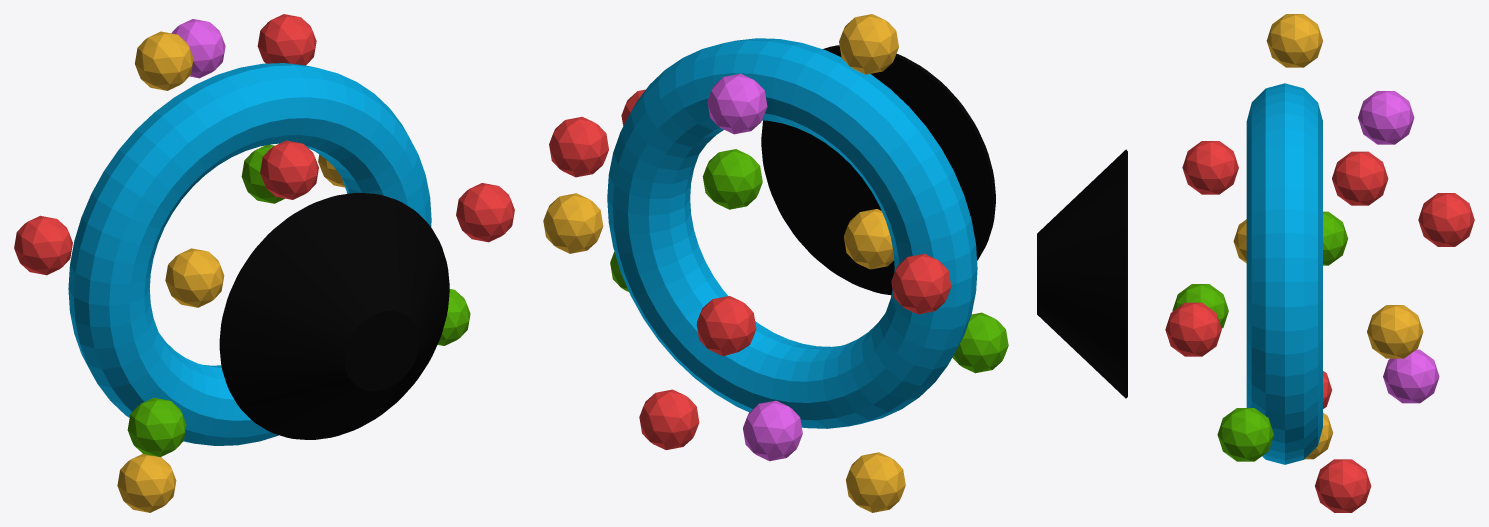
The model's file is AtomPainter.fbx.
3 views of the same model, side by side, from view 1: azimuth 30°, elevation 25°; view 2: azimuth 150°, elevation 25°; view 3: azimuth 270°, elevation 25° (orthographic). The views are drawn at different scales.
Visible parts, largest first — view 1: Torus, Cone, Icosphere.011, Icosphere.002, Icosphere.005, Icosphere.008, Icosphere, Icosphere.007, Icosphere.004, Icosphere.012, Icosphere.006, Icosphere.001 (+1 smaller); view 2: Torus, Cone, Icosphere.003, Icosphere.001, Icosphere.006, Icosphere.008, Icosphere.011, Icosphere.014, Icosphere.004, Icosphere.012, Icosphere.013, Icosphere.010 (+2 smaller); view 3: Torus, Cone, Icosphere.008, Icosphere.007, Icosphere.006, Icosphere.002, Icosphere.003, Icosphere.009, Icosphere.011, Icosphere.012, Icosphere.014, Icosphere.013 (+2 smaller).
Boxes of the visible parts, box(x1,y1,x2,y2) form: Torus: box(68, 63, 431, 445); Cone: box(219, 193, 449, 439); Icosphere.011: box(135, 31, 193, 90); Icosphere.002: box(260, 140, 318, 199); Icosphere.005: box(127, 398, 186, 457); Icosphere.008: box(14, 215, 72, 275); Icosphere: box(165, 248, 224, 307); Icosphere.007: box(456, 183, 514, 242); Icosphere.004: box(117, 454, 176, 512); Icosphere.012: box(257, 14, 316, 65); Icosphere.006: box(171, 19, 225, 78); Icosphere.001: box(241, 144, 284, 203); Torus: box(607, 38, 977, 428); Cone: box(761, 45, 995, 295); Icosphere.003: box(639, 389, 699, 449); Icosphere.001: box(702, 149, 762, 209); Icosphere.006: box(707, 73, 767, 134); Icosphere.008: box(891, 253, 951, 314); Icosphere.011: box(839, 14, 898, 74); Icosphere.014: box(543, 193, 603, 253); Icosphere.004: box(846, 452, 905, 512); Icosphere.012: box(549, 116, 608, 177); Icosphere.013: box(743, 400, 802, 461); Icosphere.010: box(696, 296, 756, 356); Torus: box(1246, 83, 1322, 464); Cone: box(1037, 149, 1127, 398); Icosphere.008: box(1332, 151, 1388, 205); Icosphere.007: box(1165, 302, 1221, 356); Icosphere.006: box(1358, 91, 1414, 144); Icosphere.002: box(1182, 141, 1238, 194); Icosphere.003: box(1315, 459, 1371, 512); Icosphere.009: box(1217, 408, 1273, 461); Icosphere.011: box(1266, 14, 1322, 67); Icosphere.012: box(1418, 193, 1474, 246); Icosphere.014: box(1367, 305, 1423, 358); Icosphere.013: box(1383, 349, 1439, 403).
Size of the model in its own units: 286 by 324 by 286.
